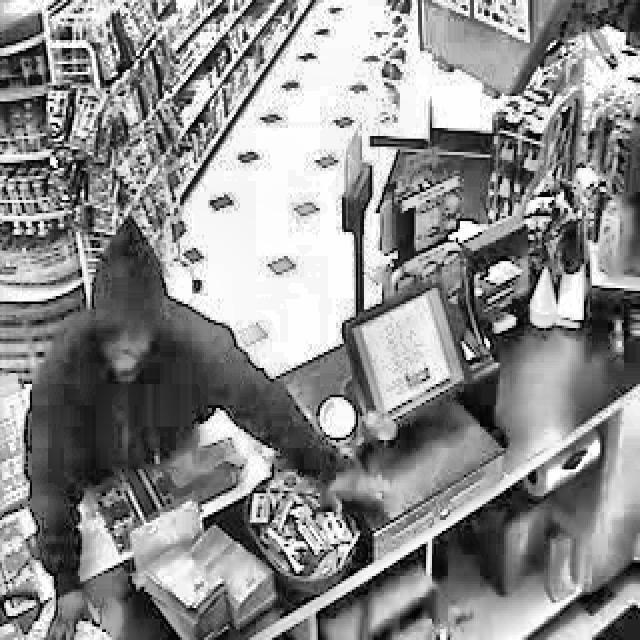robbery: (22, 207, 397, 640)
